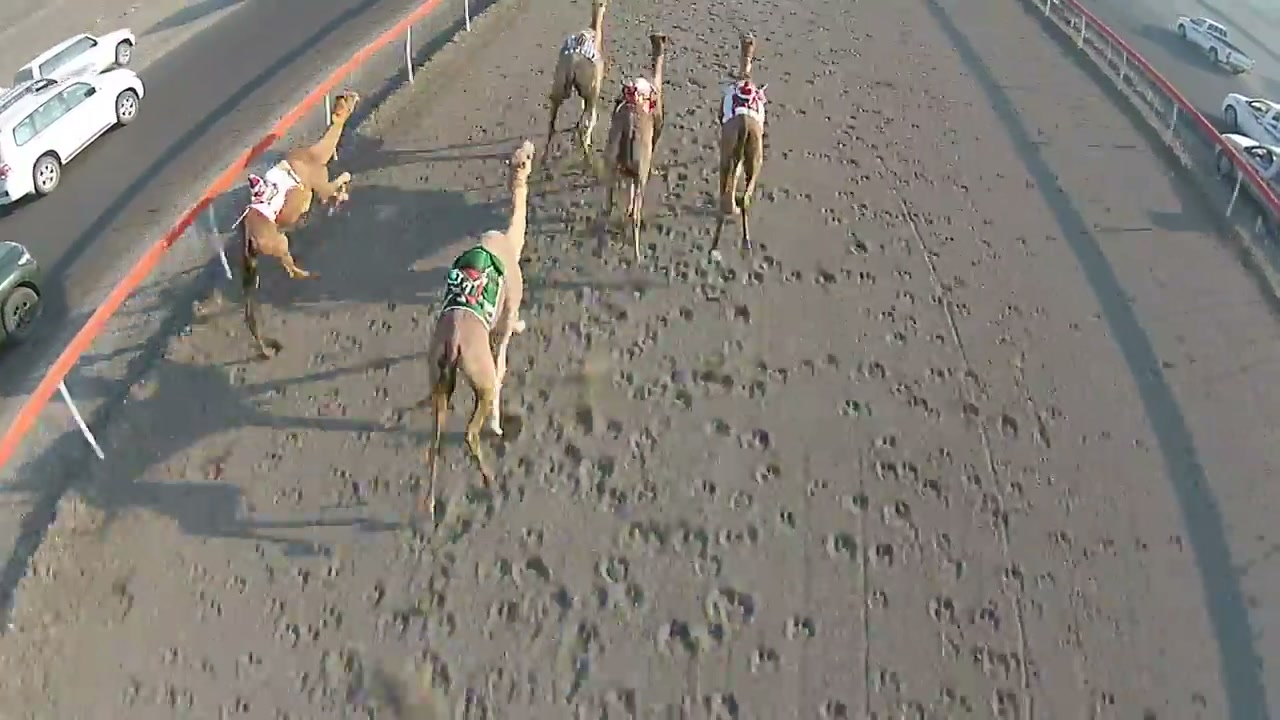animal_footprint: (169, 51, 1013, 719)
